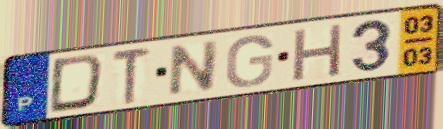3: (347, 17, 398, 75)
D: (46, 52, 107, 115)
G: (222, 33, 276, 90)
H: (290, 21, 347, 85)
N: (165, 37, 222, 99)
T: (110, 45, 154, 106)
